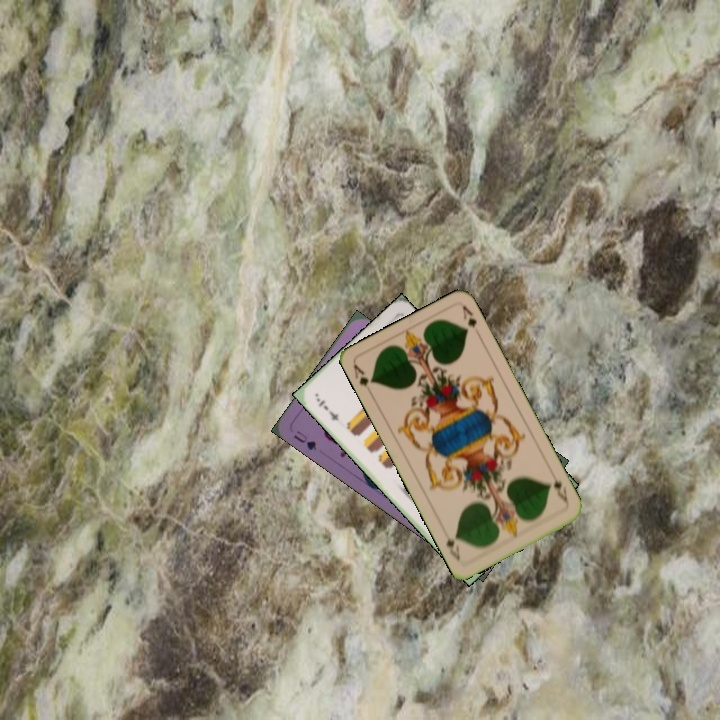E7: (312, 394, 341, 423)
GA: (350, 360, 376, 398), (545, 469, 571, 507)
GU: (289, 426, 319, 453)
